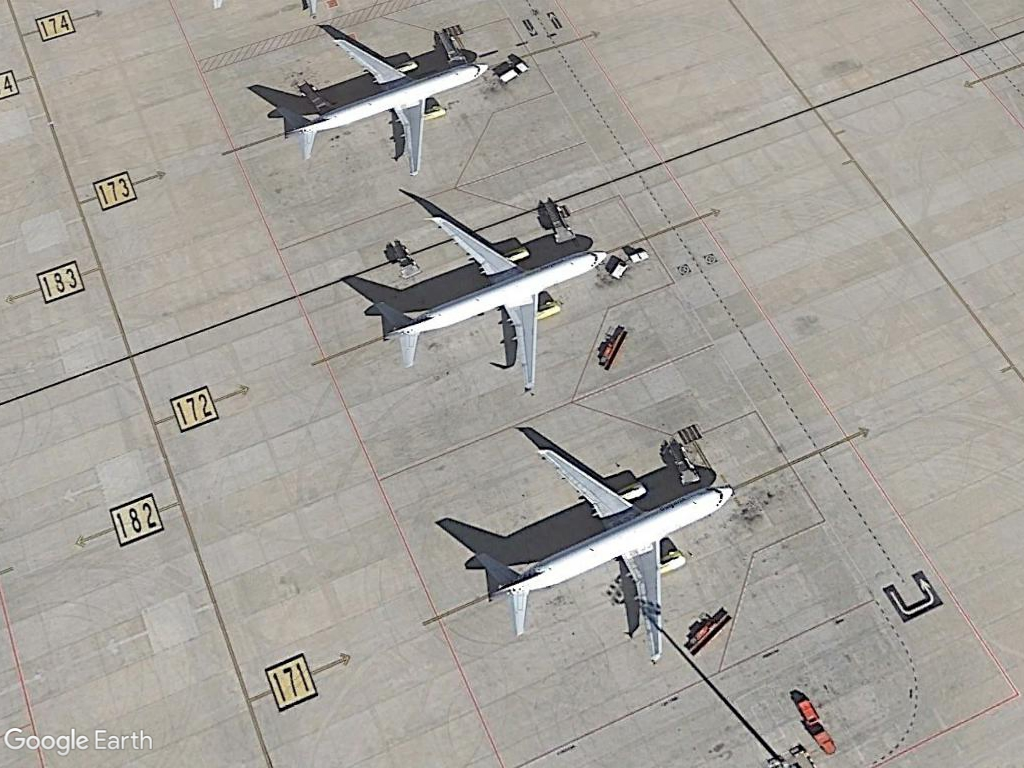airliner: (469, 448, 736, 666), (367, 213, 613, 396), (273, 34, 493, 182)
stairtruck: (536, 196, 582, 248)
